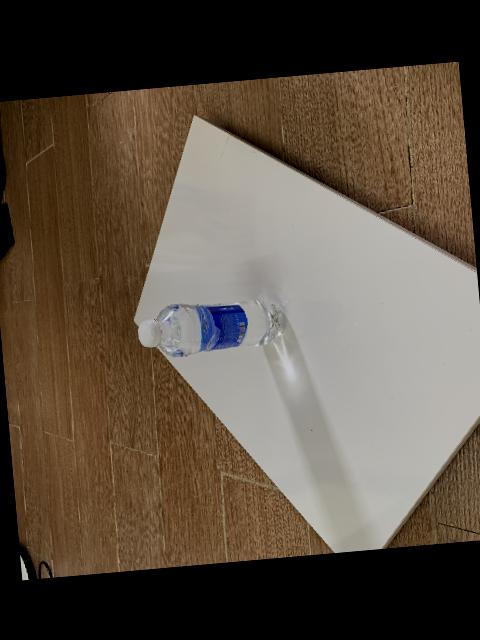aquafina: (138, 298, 282, 356)
